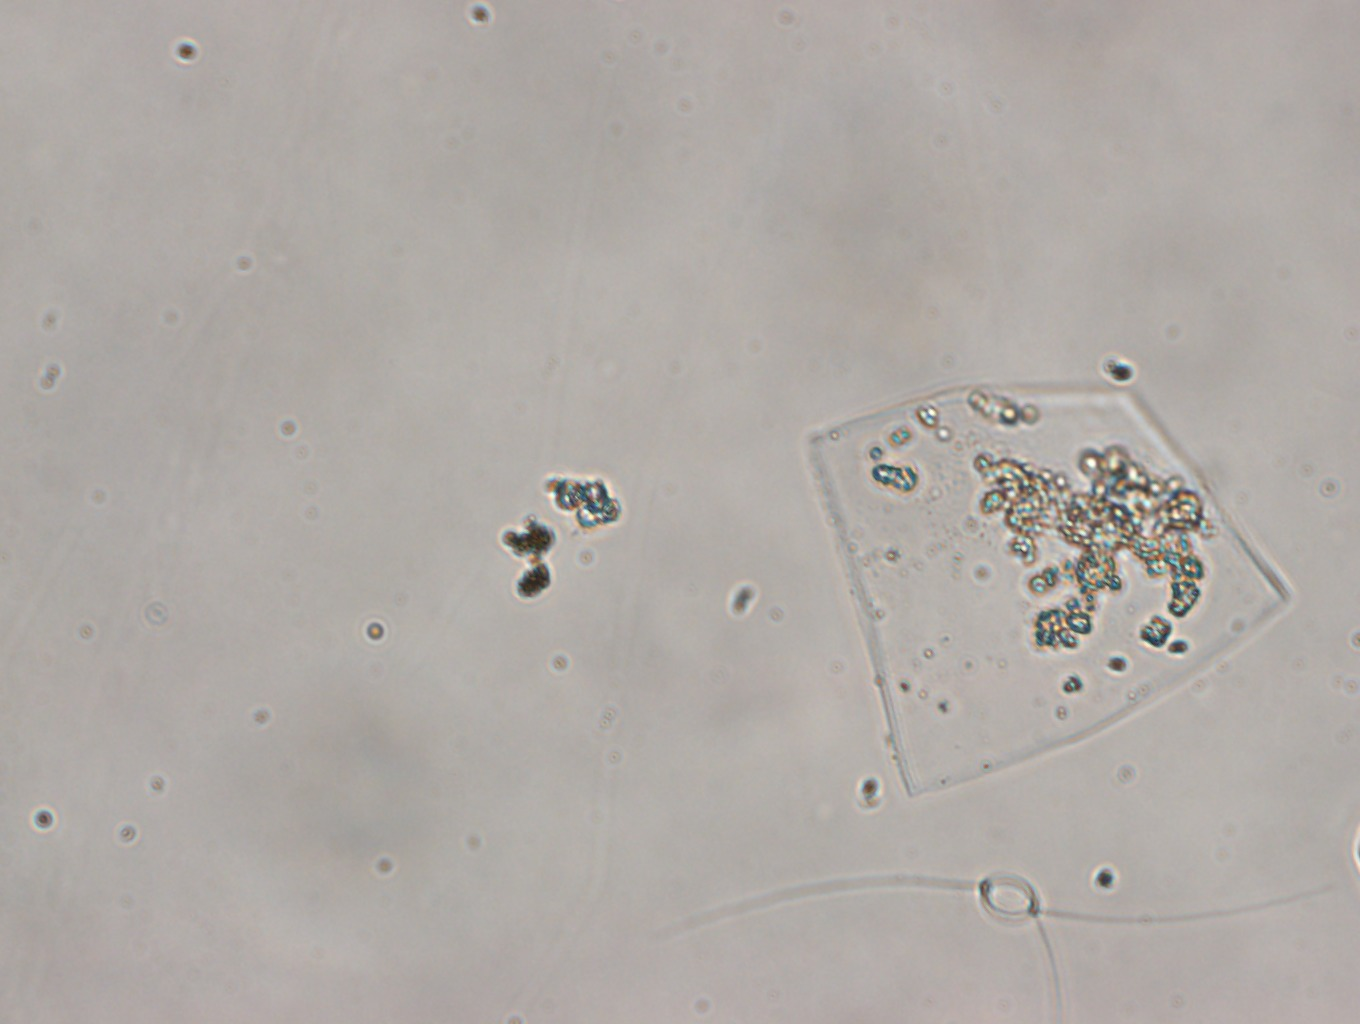chaetoceros: (686, 868, 1341, 1011)
helicotheca: (806, 383, 1291, 799)
